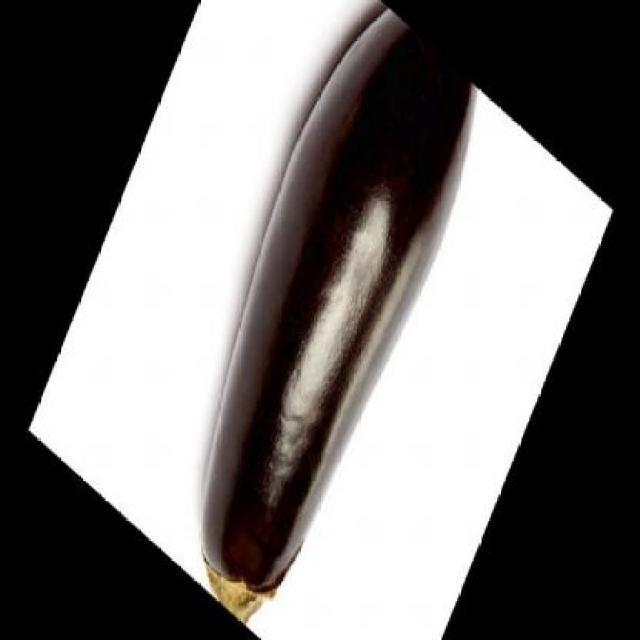eggplant: (139, 0, 497, 638)
